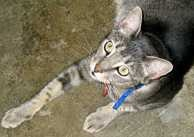Cat: (1, 6, 167, 131)
